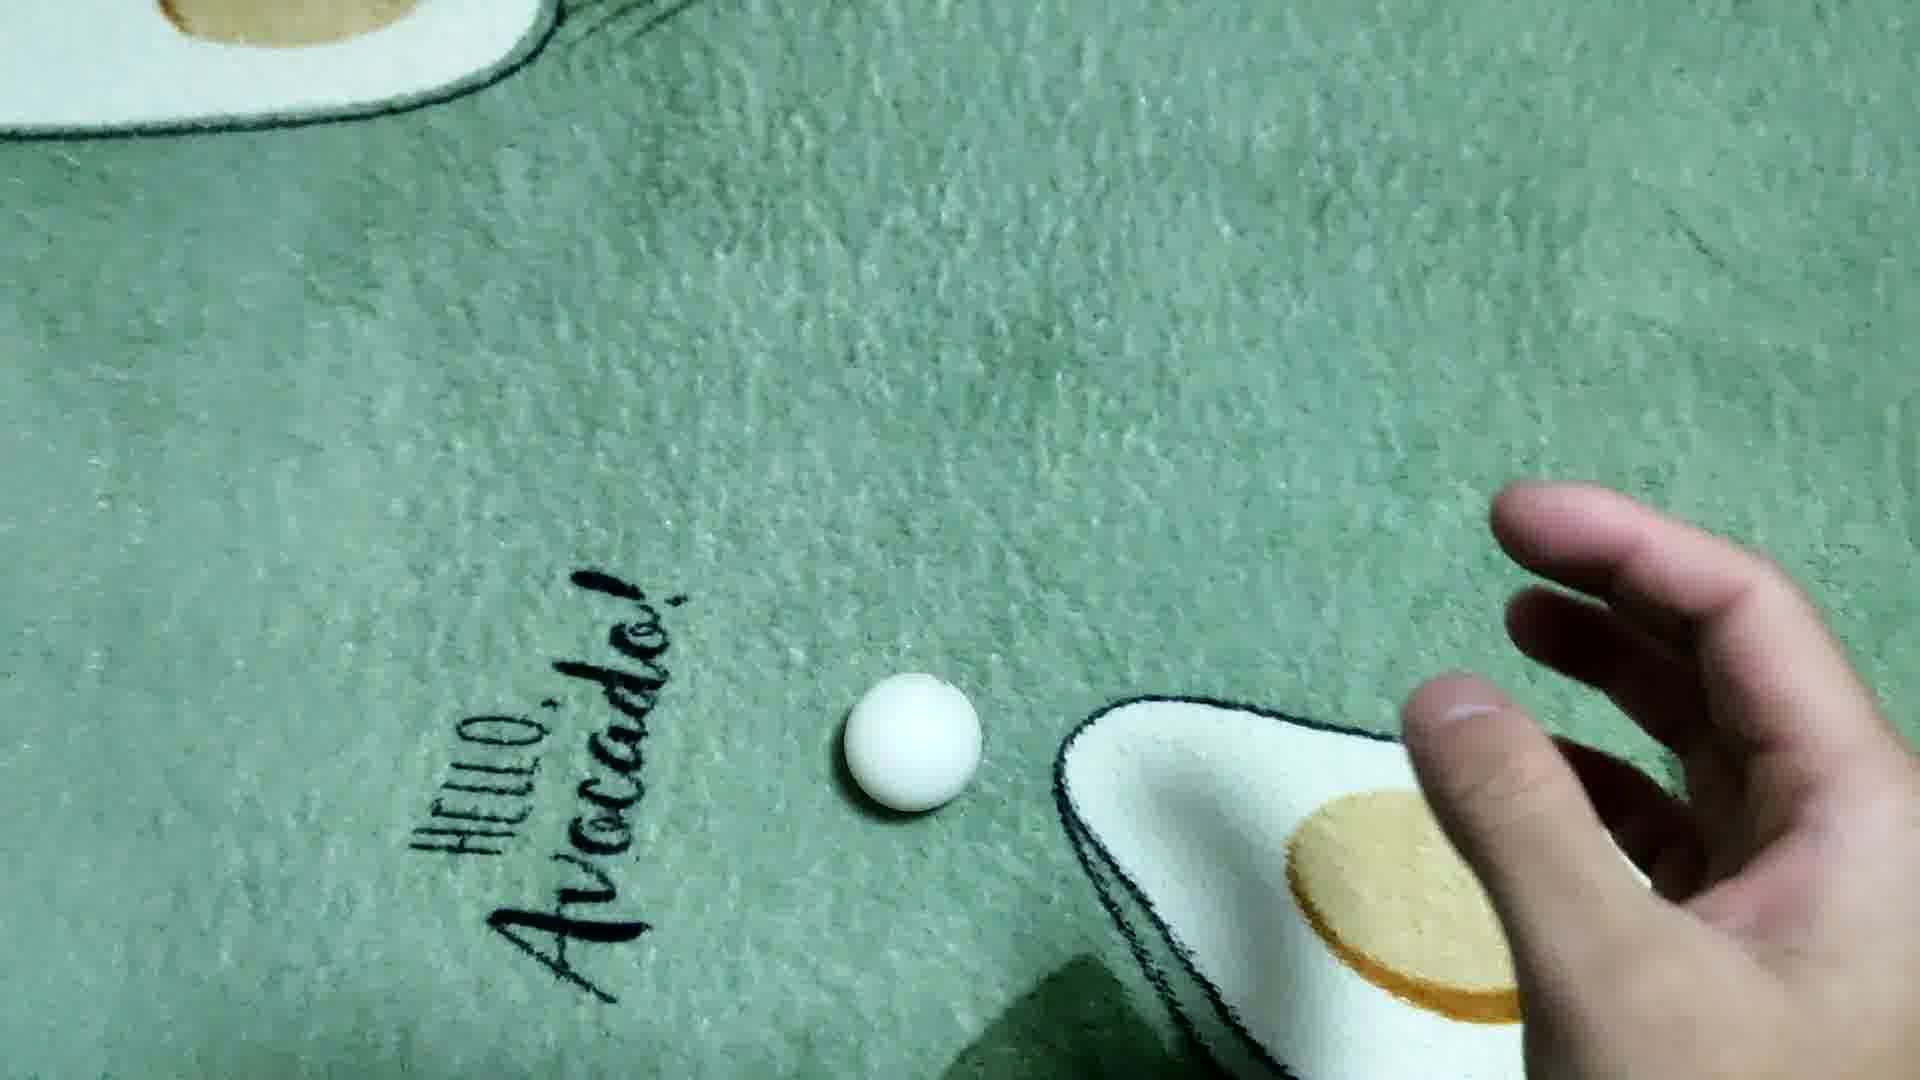Ball: (847, 669, 982, 814)
